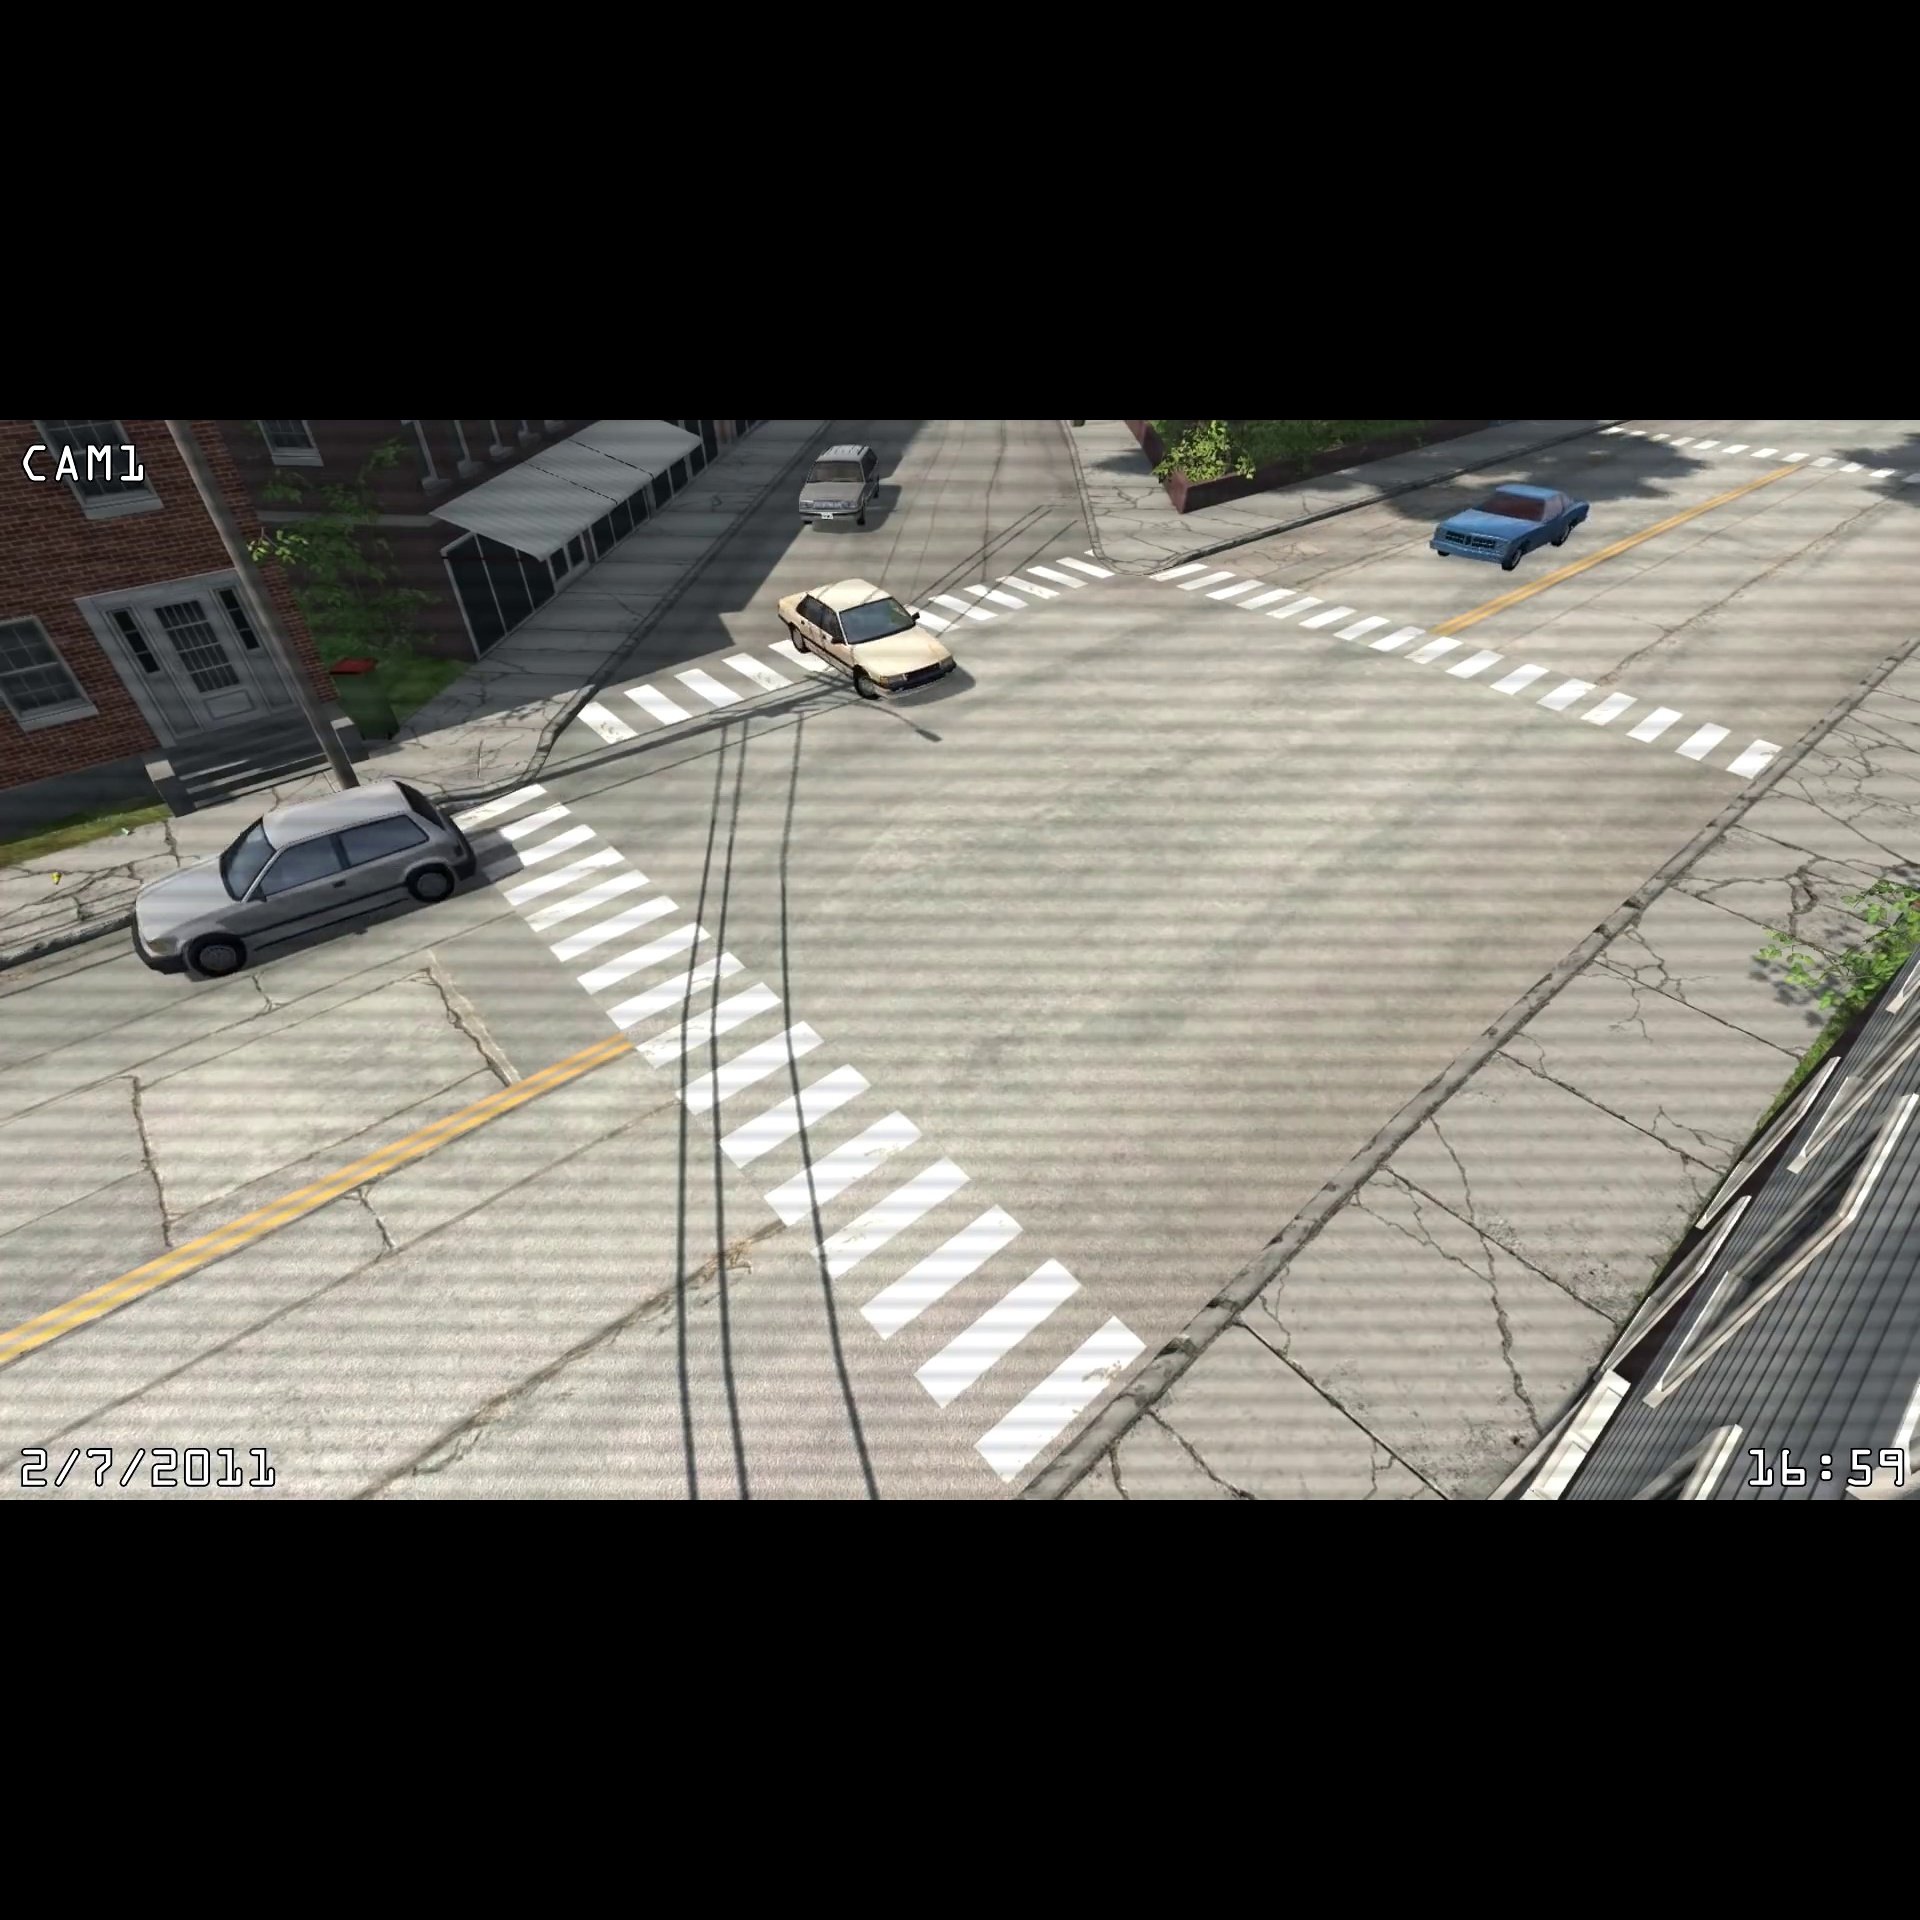vehicle: (121, 763, 496, 990), (768, 568, 969, 710), (1428, 475, 1593, 577), (795, 438, 886, 531)
